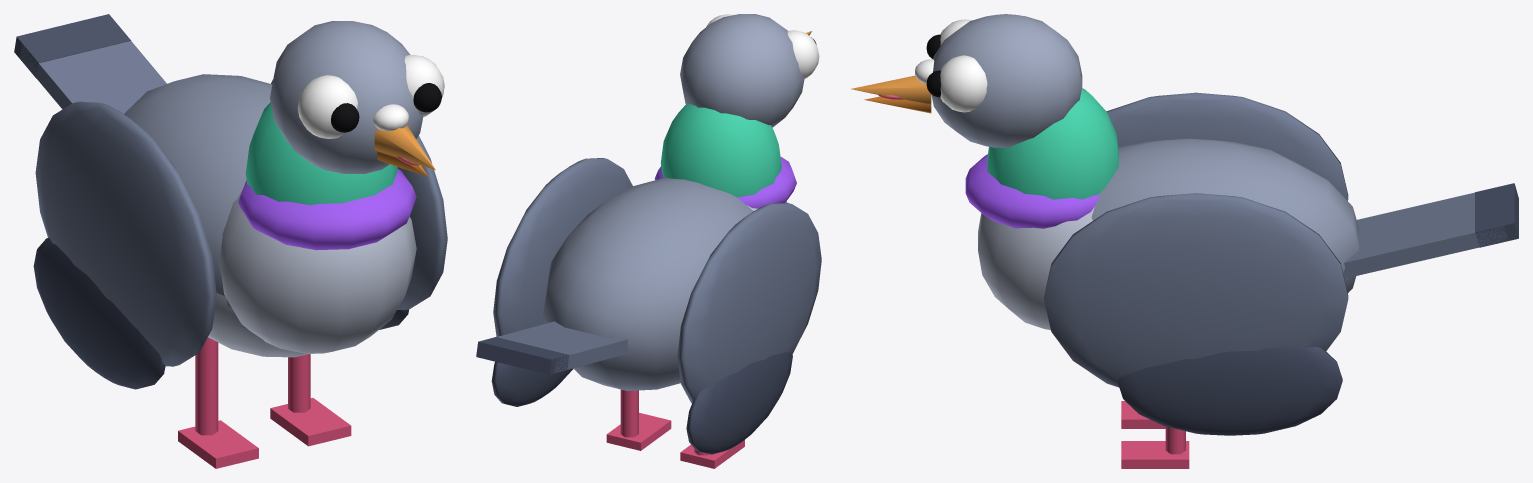
The model's file is pigeon_0.glb.
3 renders of one model, left to right at view 1: azimuth 30°, elevation 25°; view 2: azimuth 150°, elevation 25°; view 3: azimuth 270°, elevation 25°, orthographic. The views are drawn at different scales.
Parts seen in each view (by area): view 1: body, wingL, head, tail, wingR, legL, legR, beakU, beakL; view 2: body, wingL, wingR, head, tail, legR, legL; view 3: wingR, body, head, wingL, tail, legR, beakU.
Boxes of the visible parts, <box> form: body: <box>124,74,416,357</box>; wingL: <box>33,101,216,389</box>; head: <box>270,21,444,173</box>; tail: <box>14,14,166,113</box>; wingR: <box>271,79,447,329</box>; legL: <box>178,337,258,468</box>; legR: <box>270,354,351,446</box>; beakU: <box>374,125,435,169</box>; beakL: <box>377,151,427,176</box>; body: <box>543,104,796,390</box>; wingL: <box>677,203,821,454</box>; wingR: <box>491,158,632,406</box>; head: <box>680,14,819,127</box>; tail: <box>476,321,628,374</box>; legR: <box>606,389,671,450</box>; legL: <box>680,440,744,468</box>; wingR: <box>1044,193,1348,435</box>; body: <box>965,88,1358,330</box>; head: <box>915,14,1082,147</box>; wingL: <box>1106,92,1348,200</box>; tail: <box>1343,183,1518,278</box>; legR: <box>1121,426,1189,468</box>; beakU: <box>851,75,931,104</box>.
Size of the model in its own units: 0.84 by 1.36 by 1.97.
